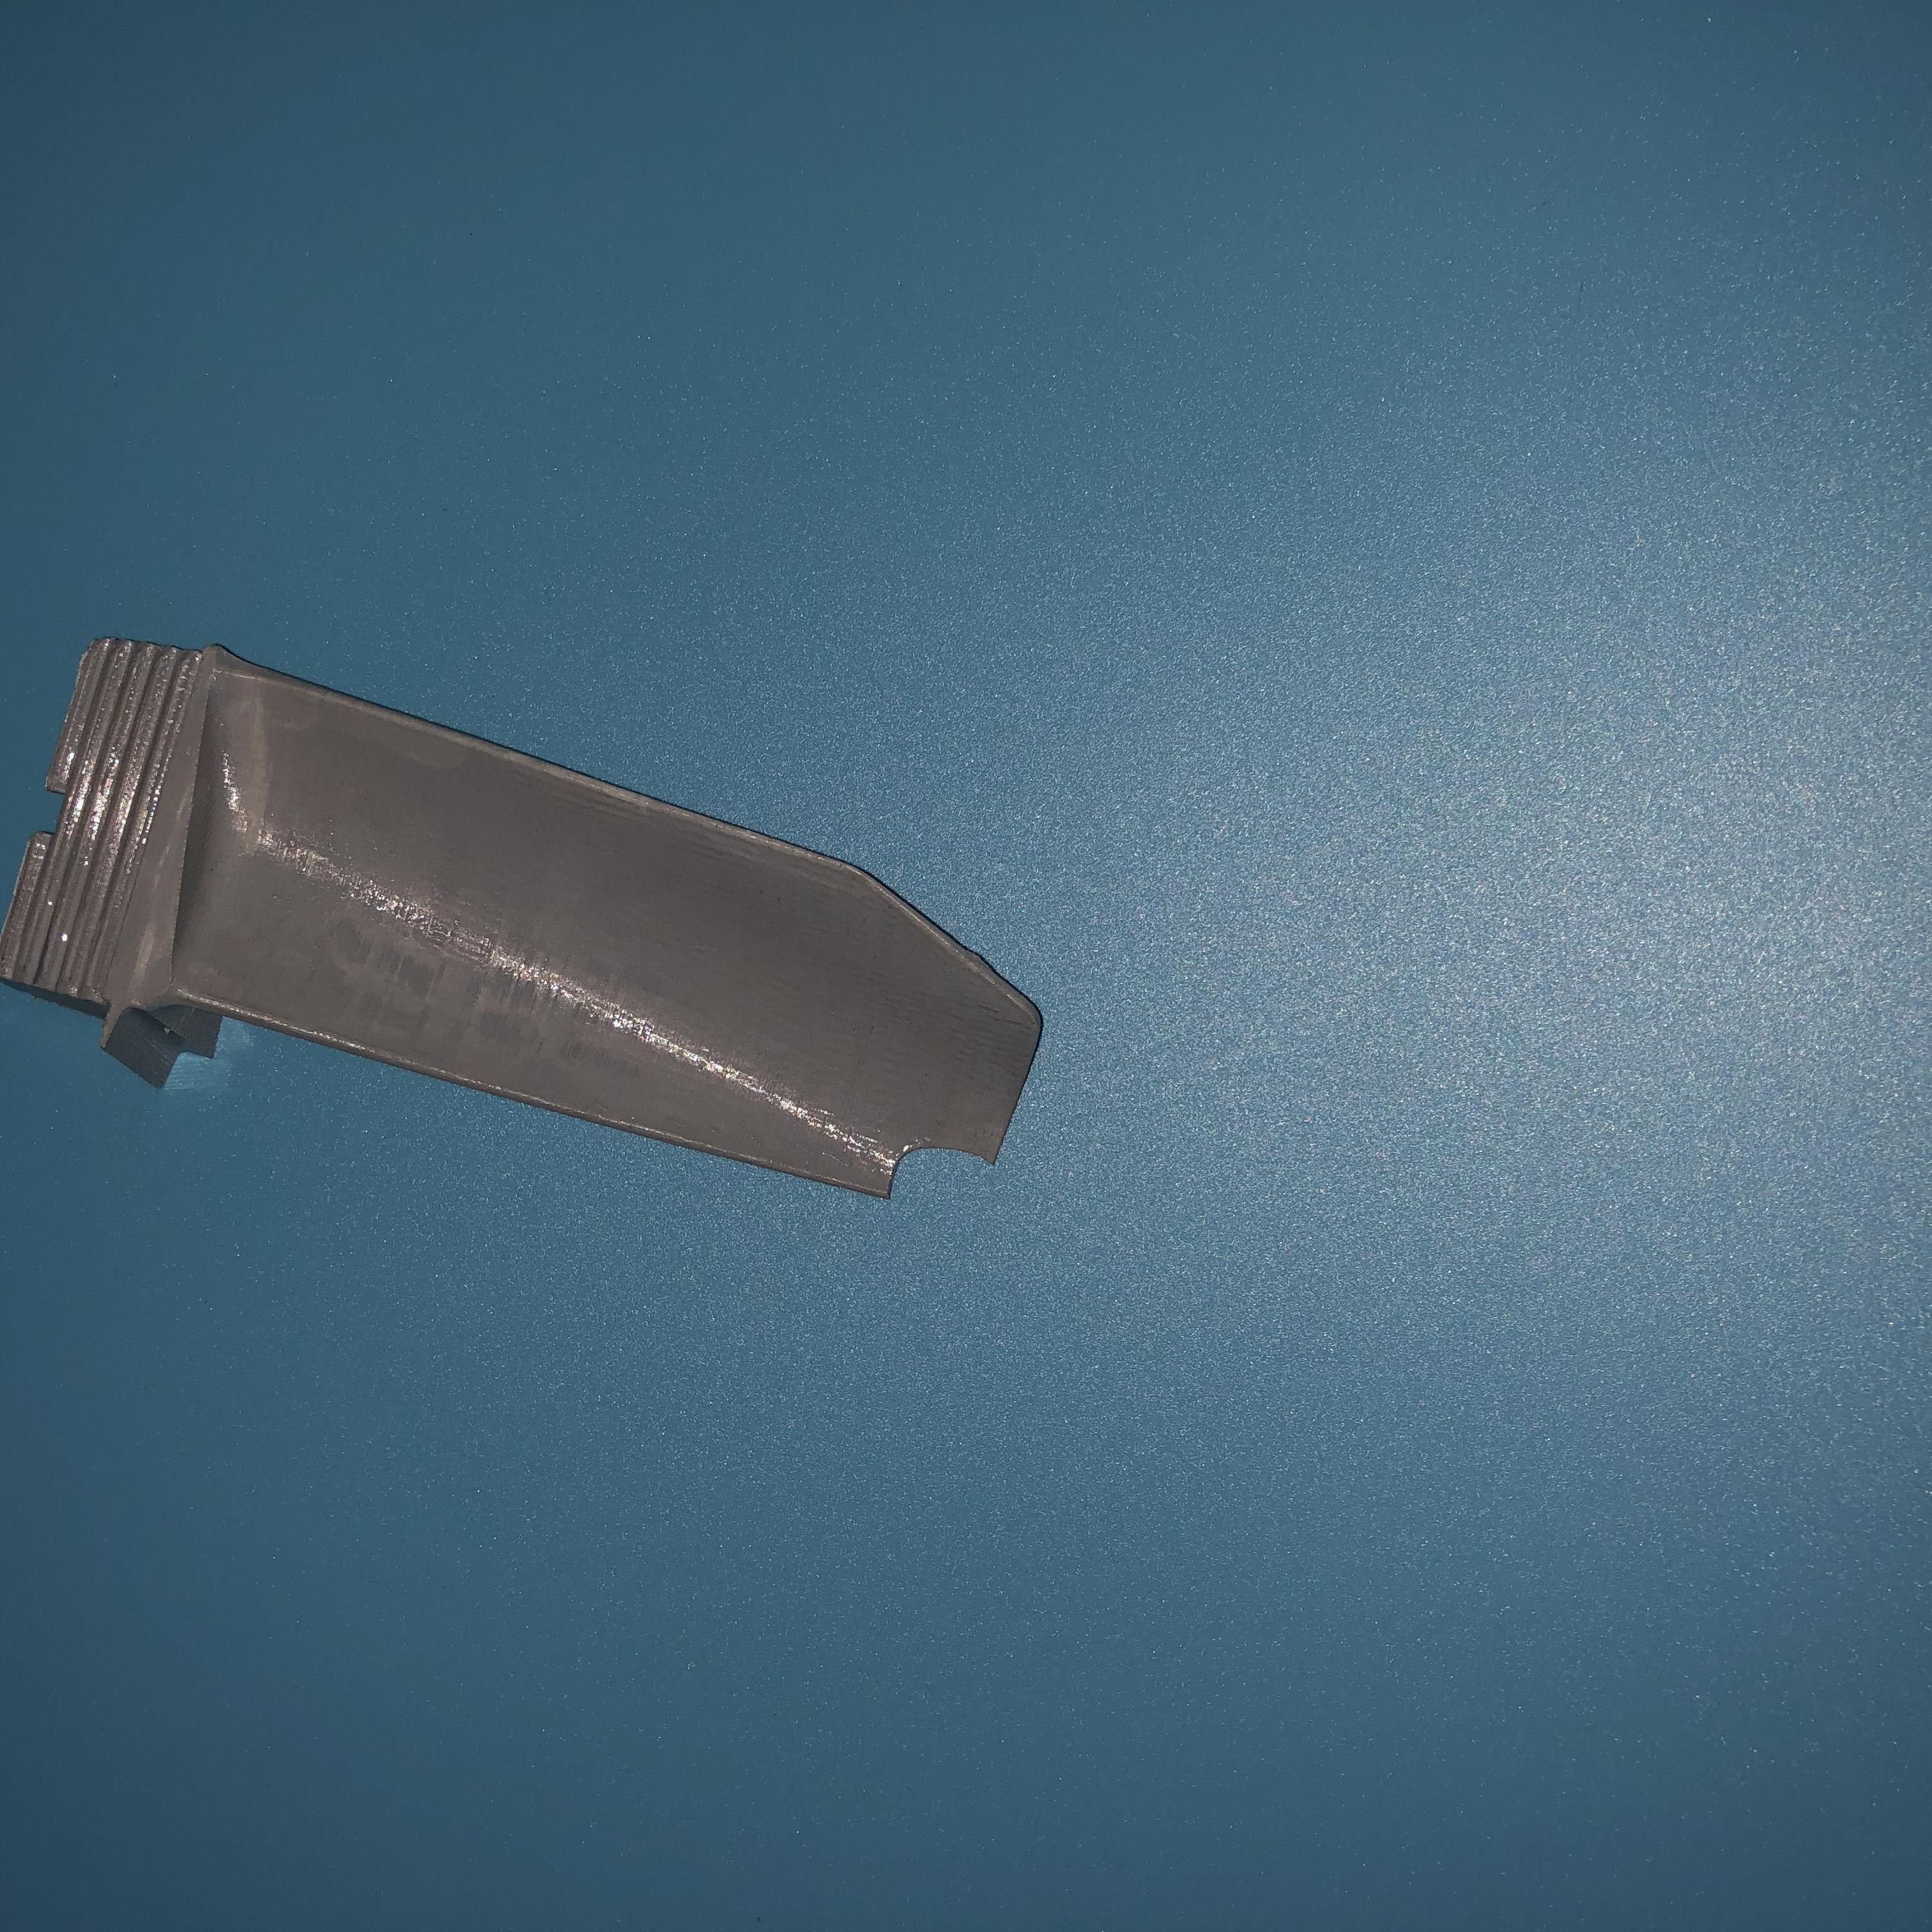fracture: (883, 1136, 1003, 1205)
